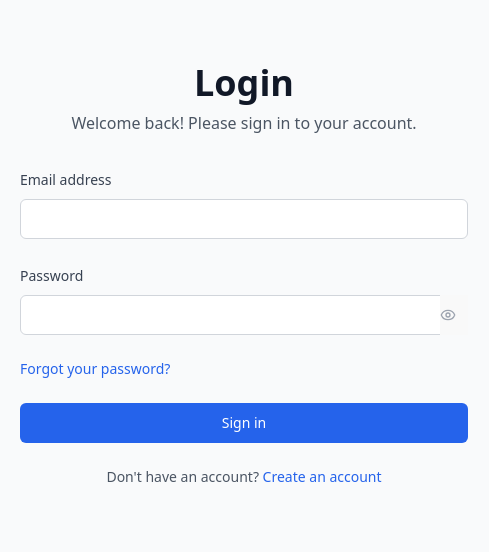
it: LoginPage › displays error on login with invalid credentials
Step 1. Type "notanemail@gmail.com" into the field labelled "Email address" → coordinates (244, 219), box [20,199,468,239]
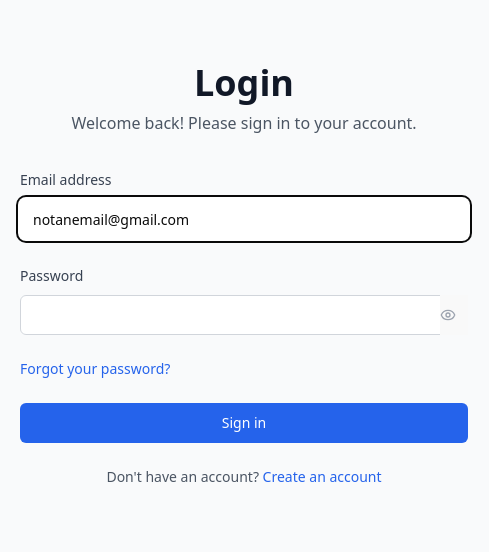
Step 2. Type "unicorn" into the password field labelled "Password" → coordinates (244, 315), box [20,295,468,335]
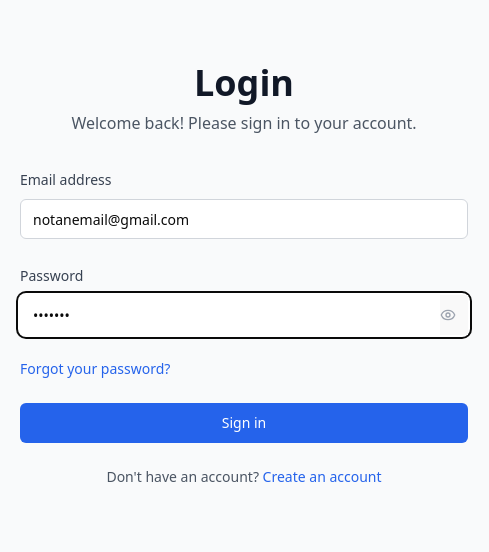
Step 3. Click the button "Sign in" → coordinates (244, 423), box [20,403,468,443]
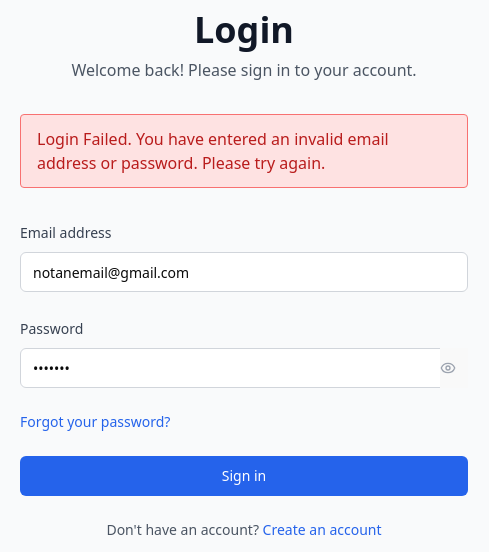
Result: the message shows "Login Failed" at [37,128,389,174]
